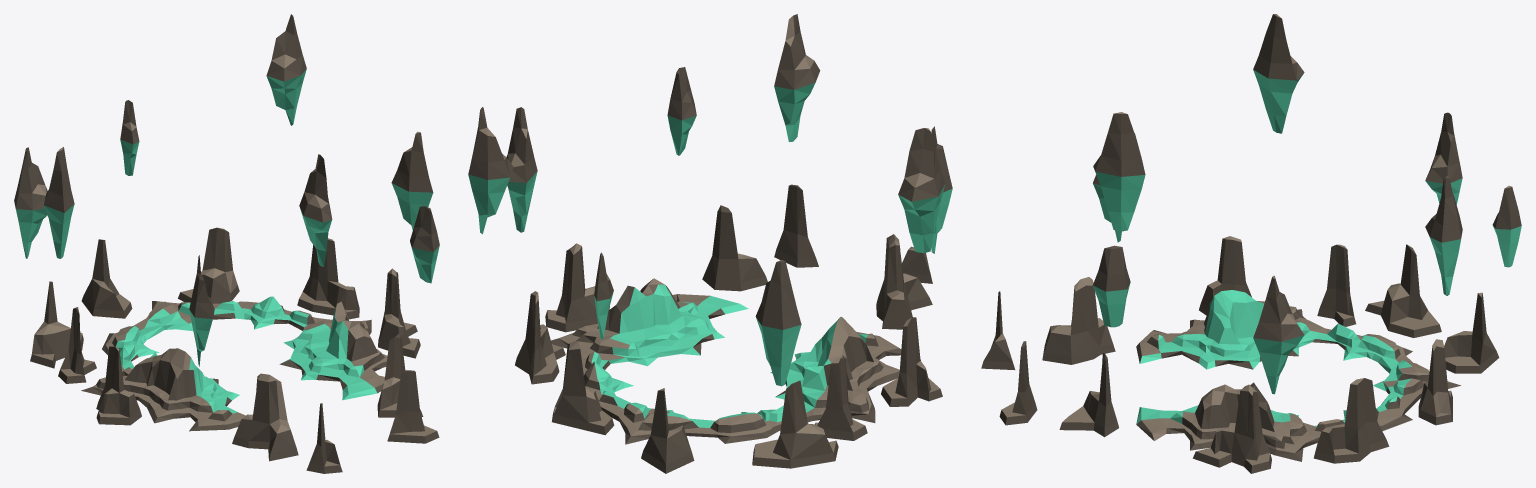
File: 01_place_strangestones.fbx
The picture shows the model from 3 angles, left to right: view 1: azimuth 30°, elevation 25°; view 2: azimuth 150°, elevation 25°; view 3: azimuth 270°, elevation 25°; orthographic projection. The views are drawn at different scales.
Visible parts, largest first — view 1: Tear_in_reality_01tri:circle, Tear_in_reality_01tri:floaters; view 2: Tear_in_reality_01tri:circle, Tear_in_reality_01tri:floaters; view 3: Tear_in_reality_01tri:circle, Tear_in_reality_01tri:floaters.
Part boxes in pixels (bbox=[...]): Tear_in_reality_01tri:circle: bbox=[30, 227, 439, 473]; Tear_in_reality_01tri:floaters: bbox=[14, 14, 439, 366]; Tear_in_reality_01tri:circle: bbox=[515, 184, 942, 473]; Tear_in_reality_01tri:floaters: bbox=[468, 14, 952, 386]; Tear_in_reality_01tri:circle: bbox=[981, 236, 1499, 473]; Tear_in_reality_01tri:floaters: bbox=[1092, 14, 1521, 394].
Size of the model in its own units: 7803 by 5050 by 8847.
